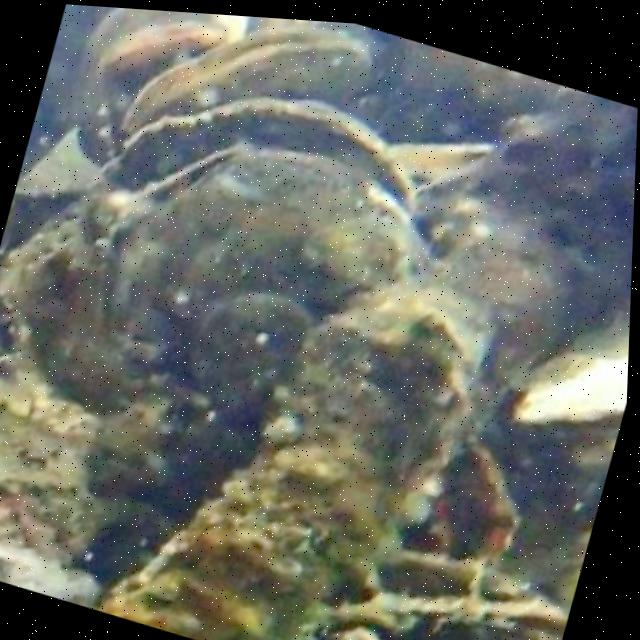Oyster-Closed: (91, 140, 443, 408), (122, 27, 372, 132), (520, 315, 630, 438), (390, 141, 491, 174)
Oyster-Indeterminate: (97, 305, 465, 640), (79, 8, 231, 103), (102, 19, 233, 79)
